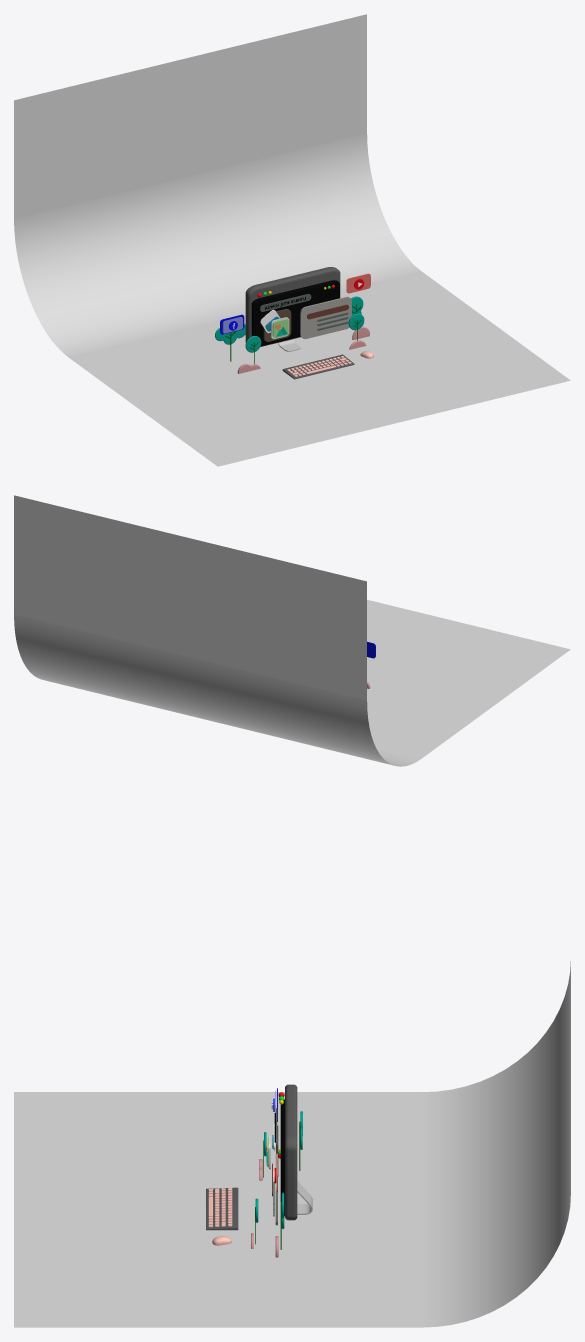
Rendered from portfolio.glb.
3 views of the same model, one above another, from view 1: azimuth 30°, elevation 25°; view 2: azimuth 150°, elevation 25°; view 3: azimuth 270°, elevation 25° (orthographic). The views are drawn at different scales.
Parts seen in each view (by area): view 1: background, hero, monitor, textarea, baseKeyboard, keys; view 2: background; view 3: background, monitor, baseKeyboard, keys.
Boxes of the visible parts, x1,y1,x2,y2 form: background: (14, 14, 570, 466); hero: (251, 280, 339, 345); monitor: (245, 267, 340, 346); textarea: (300, 296, 351, 339); baseKeyboard: (282, 354, 354, 379); keys: (287, 356, 351, 376); background: (14, 495, 570, 766); background: (14, 961, 570, 1327); monitor: (285, 1084, 297, 1220); baseKeyboard: (206, 1187, 238, 1230); keys: (208, 1188, 232, 1227).
Bounding box in the file's own units: 34.35 × 21.26 × 34.35.
